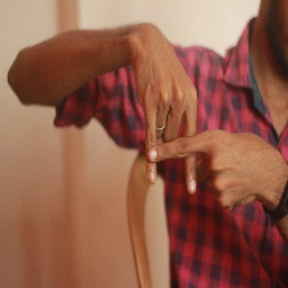H: (116, 83, 234, 198)
